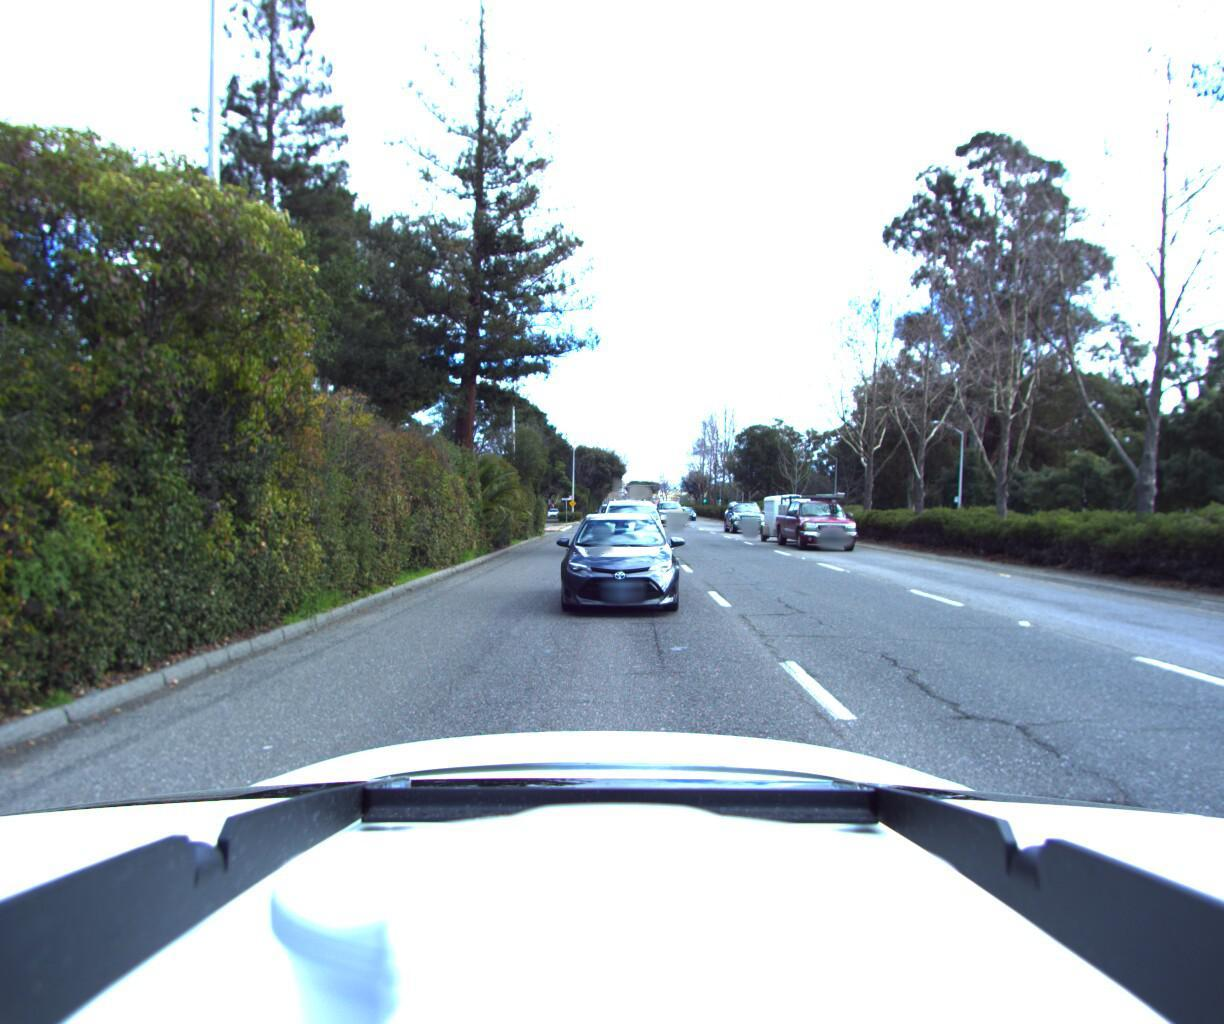car: (546, 511, 680, 624), (759, 488, 872, 558), (600, 502, 667, 562), (720, 504, 770, 539), (656, 504, 689, 531), (679, 506, 701, 523)
